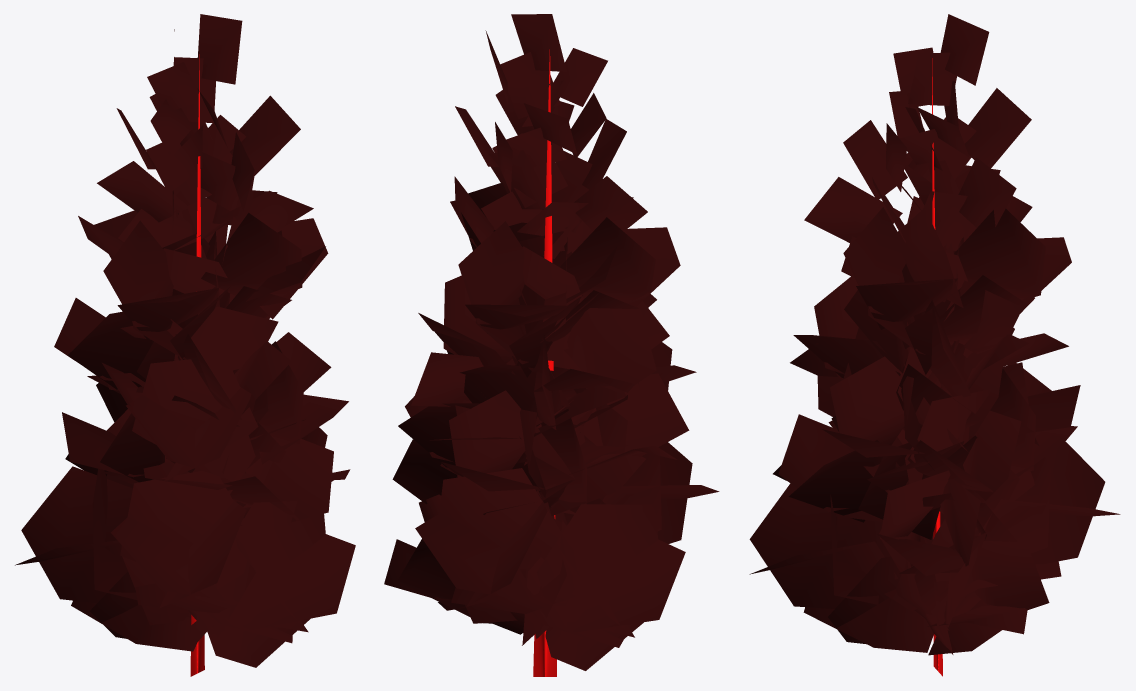
The model's file is SM_Tree_Birch_02_LOD01.fbx.
The picture shows the model from 3 angles, left to right: view 1: azimuth 30°, elevation 25°; view 2: azimuth 150°, elevation 25°; view 3: azimuth 270°, elevation 25°; orthographic projection.
Visible parts, largest first — view 1: SM_Tree_Birch_02_LOD01; view 2: SM_Tree_Birch_02_LOD01; view 3: SM_Tree_Birch_02_LOD01.
Part boxes in pixels (bbox=[...]): SM_Tree_Birch_02_LOD01: bbox=[15, 14, 355, 676]; SM_Tree_Birch_02_LOD01: bbox=[384, 14, 719, 676]; SM_Tree_Birch_02_LOD01: bbox=[749, 14, 1120, 676].
Bounding box in the file's own units: 250 × 537 × 278.
